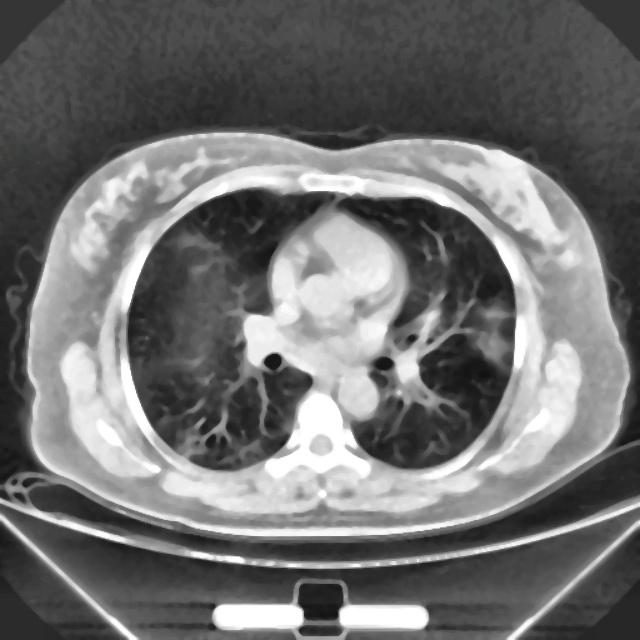covid: (21, 128, 631, 542)
